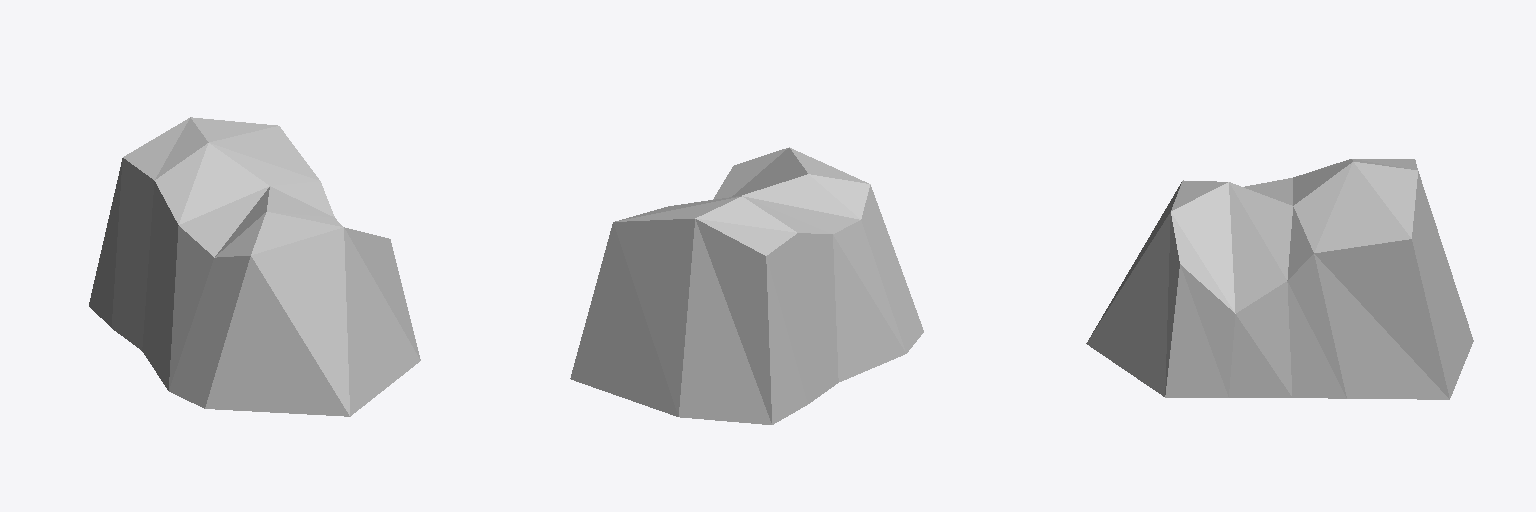
File: rock3_0605.obj
The picture shows the model from 3 angles: view 1: azimuth 30°, elevation 25°; view 2: azimuth 150°, elevation 25°; view 3: azimuth 270°, elevation 25°; orthographic projection.
Parts seen in each view (by area): view 1: Cube.002; view 2: Cube.002; view 3: Cube.002.
Part boxes in pixels (x1,y1,x2,y2): Cube.002: (89, 117, 420, 416); Cube.002: (570, 147, 923, 424); Cube.002: (1086, 159, 1473, 399).
Bounding box in the file's own units: 6.2 × 4.68 × 9.21.